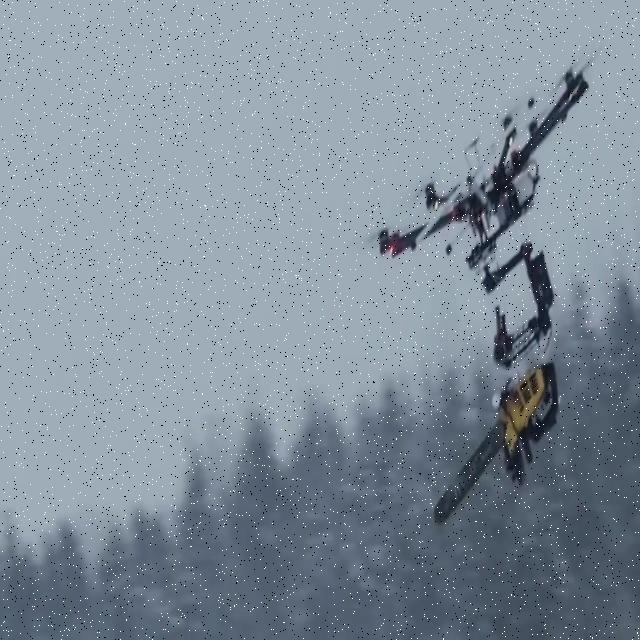UAV: (364, 52, 597, 272)
